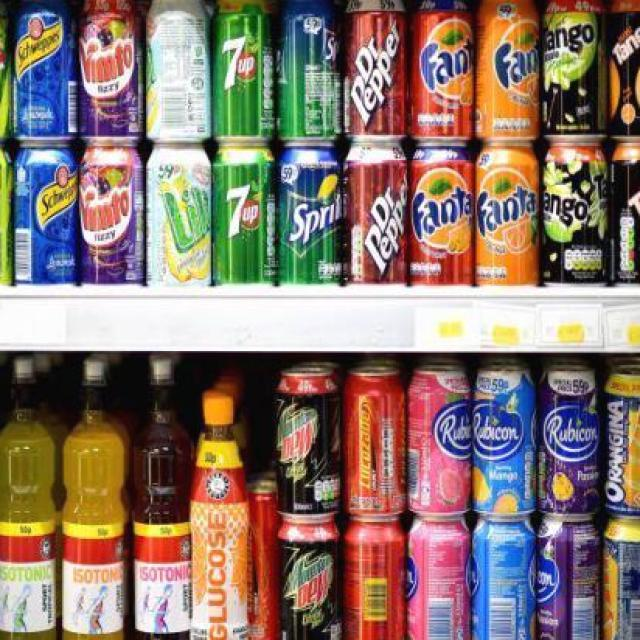Drinks: (271, 362, 343, 522), (278, 144, 348, 290), (276, 0, 345, 146), (211, 144, 280, 290), (475, 143, 542, 286), (409, 0, 476, 143), (473, 0, 540, 141), (210, 0, 276, 143), (346, 0, 411, 143), (410, 144, 474, 286), (348, 142, 409, 285), (274, 519, 344, 640)
